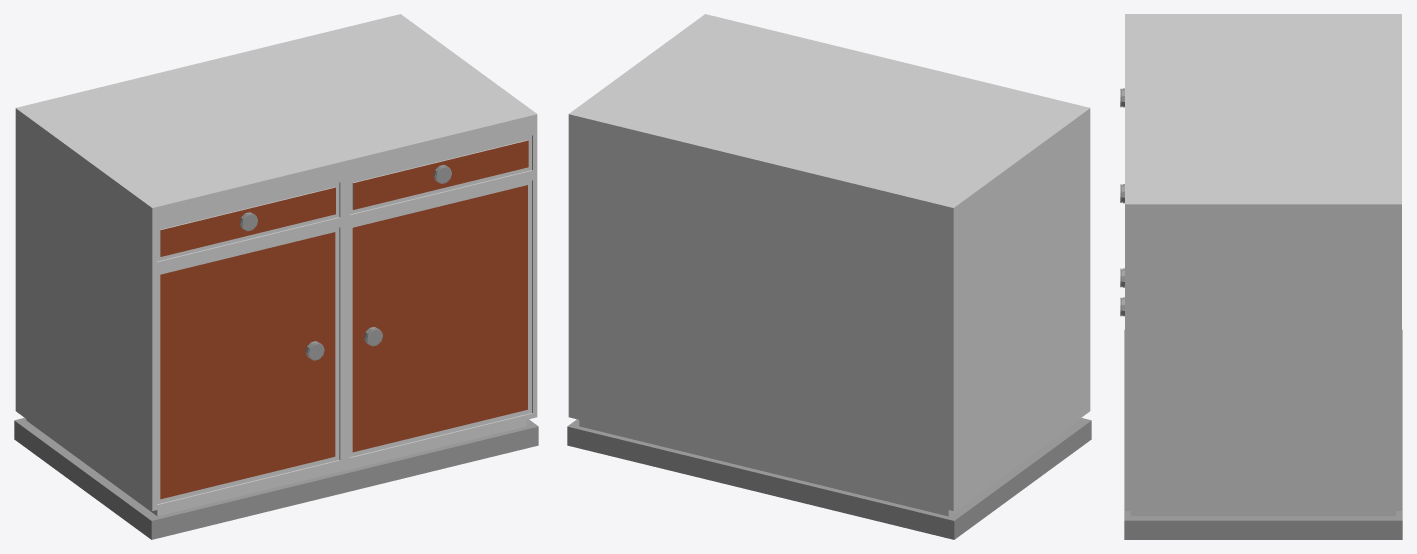
The model's file is Upper_Cabinet.fbx.
3 renders of one model, left to right at view 1: azimuth 30°, elevation 25°; view 2: azimuth 150°, elevation 25°; view 3: azimuth 270°, elevation 25°, orthographic.
Visible parts, largest first — view 1: Upper_Cabinet; view 2: Upper_Cabinet; view 3: Upper_Cabinet.
Boxes of the visible parts, box(x1,y1,x2,y2) form: Upper_Cabinet: box(14, 14, 538, 539); Upper_Cabinet: box(567, 14, 1091, 539); Upper_Cabinet: box(1120, 14, 1402, 539).
Bounding box in the file's own units: 92.27 × 75.47 × 57.57.
